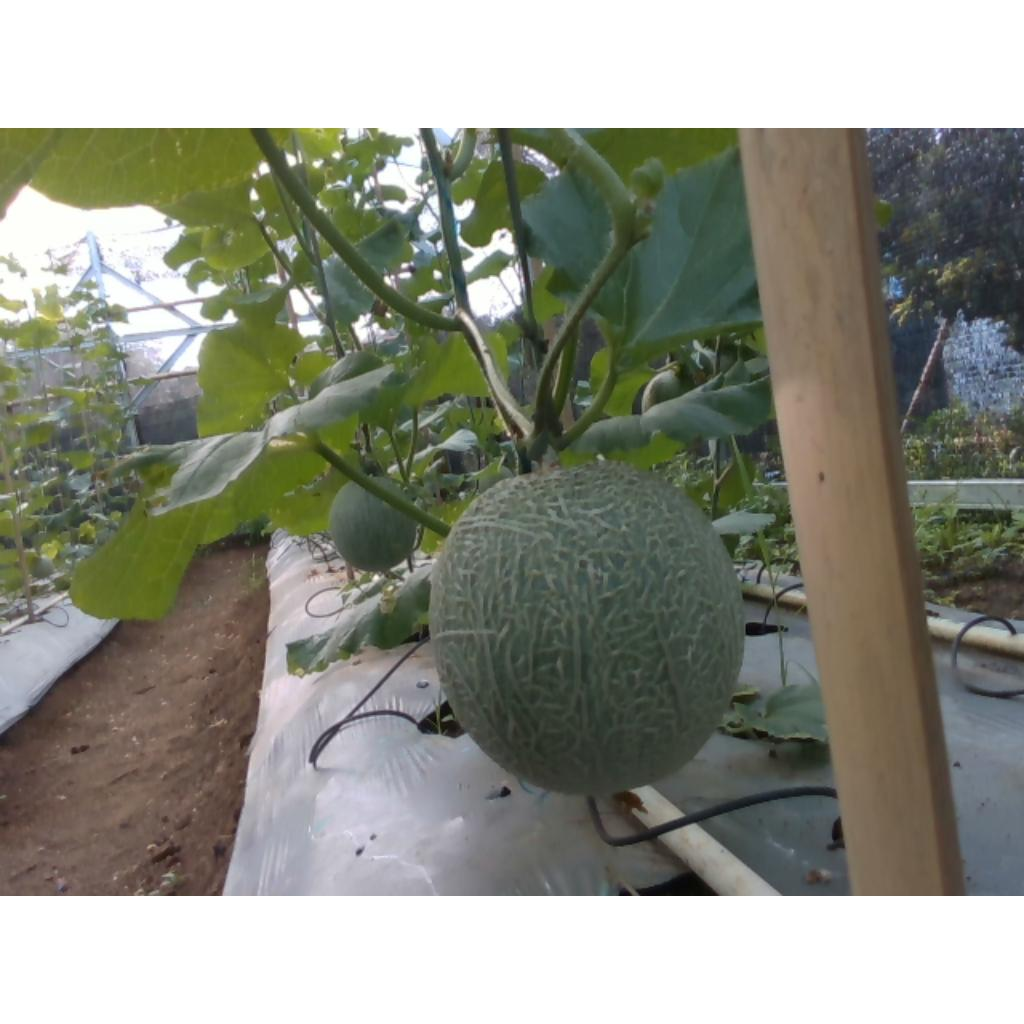melon: (430, 462, 746, 796)
